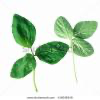Soyabean leaf: (35, 39, 70, 66), (11, 13, 37, 49), (9, 51, 38, 80), (72, 19, 99, 41), (52, 15, 75, 40), (68, 37, 95, 57)
